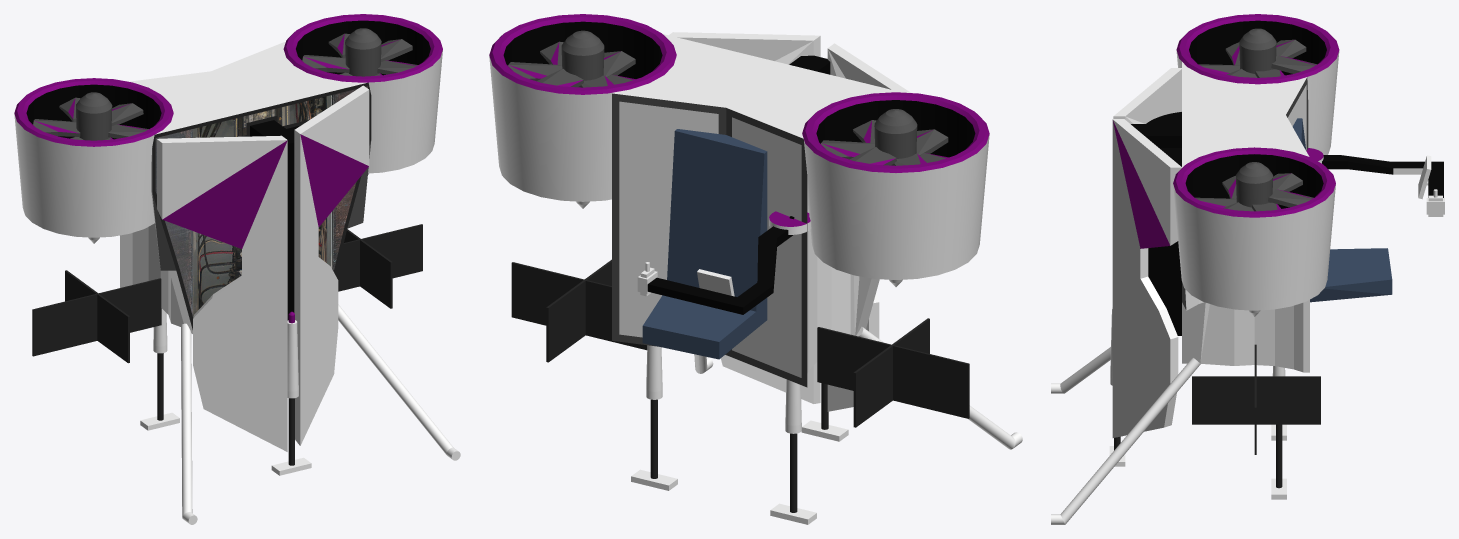
The model's file is JetPack.fbx.
3 renders of one model, left to right at view 1: azimuth 30°, elevation 25°; view 2: azimuth 150°, elevation 25°; view 3: azimuth 270°, elevation 25°, orthographic. The views are drawn at different scales.
Visible parts, largest first — view 1: desgign1, jetpack_base1, thrust_base2, desgign2, thrust_base1, flatsf2, flatsf1, standar1, prop2, prop1, rockstand1, rockstand3 (+2 smaller); view 2: jetpack_base1, thrust_base2, thrust_base1, seat1, flatsf2, flatsf1, desgign2, JetPackHandle1, desgign1, prop1, prop2, rockstand2 (+7 smaller); view 3: jetpack_base1, thrust_base1, desgign2, thrust_base2, flatsf1, seat1, standar1, desgign1, JetPackHandle1, prop1, prop2, rockstand2 (+4 smaller).
Part boxes in pixels (x1=…): desgign1: x1=157, y1=135, x2=287, y2=451; jetpack_base1: x1=120, y1=42, x2=371, y2=333; thrust_base2: x1=14, y1=78, x2=173, y2=237; desgign2: x1=294, y1=85, x2=369, y2=445; thrust_base1: x1=283, y1=14, x2=442, y2=173; flatsf2: x1=32, y1=270, x2=161, y2=363; flatsf1: x1=336, y1=224, x2=422, y2=308; standar1: x1=181, y1=304, x2=460, y2=524; prop2: x1=76, y1=92, x2=112, y2=243; prop1: x1=345, y1=28, x2=381, y2=174; rockstand1: x1=287, y1=311, x2=298, y2=465; rockstand3: x1=153, y1=308, x2=167, y2=420; jetpack_base1: x1=612, y1=34, x2=902, y2=387; thrust_base2: x1=802, y1=92, x2=989, y2=279; thrust_base1: x1=489, y1=14, x2=676, y2=201; seat1: x1=642, y1=129, x2=767, y2=359; flatsf2: x1=817, y1=318, x2=969, y2=427; flatsf1: x1=511, y1=259, x2=647, y2=362; desgign2: x1=669, y1=32, x2=820, y2=403; JetPackHandle1: x1=647, y1=211, x2=811, y2=314; desgign1: x1=827, y1=43, x2=910, y2=411; prop1: x1=561, y1=30, x2=604, y2=208; prop2: x1=874, y1=109, x2=917, y2=286; rockstand2: x1=646, y1=345, x2=662, y2=478; jetpack_base1: x1=1131, y1=62, x2=1309, y2=372; thrust_base1: x1=1173, y1=147, x2=1335, y2=310; desgign2: x1=1112, y1=119, x2=1181, y2=437; thrust_base2: x1=1176, y1=14, x2=1339, y2=154; flatsf1: x1=1192, y1=344, x2=1320, y2=454; seat1: x1=1292, y1=118, x2=1392, y2=302; standar1: x1=1051, y1=347, x2=1200, y2=524; desgign1: x1=1113, y1=68, x2=1181, y2=123; JetPackHandle1: x1=1306, y1=148, x2=1443, y2=197; prop1: x1=1236, y1=162, x2=1273, y2=316; prop2: x1=1239, y1=28, x2=1276, y2=73; rockstand2: x1=1272, y1=366, x2=1285, y2=488.
Size of the model in its own units: 62.38 by 52.38 by 51.3.
